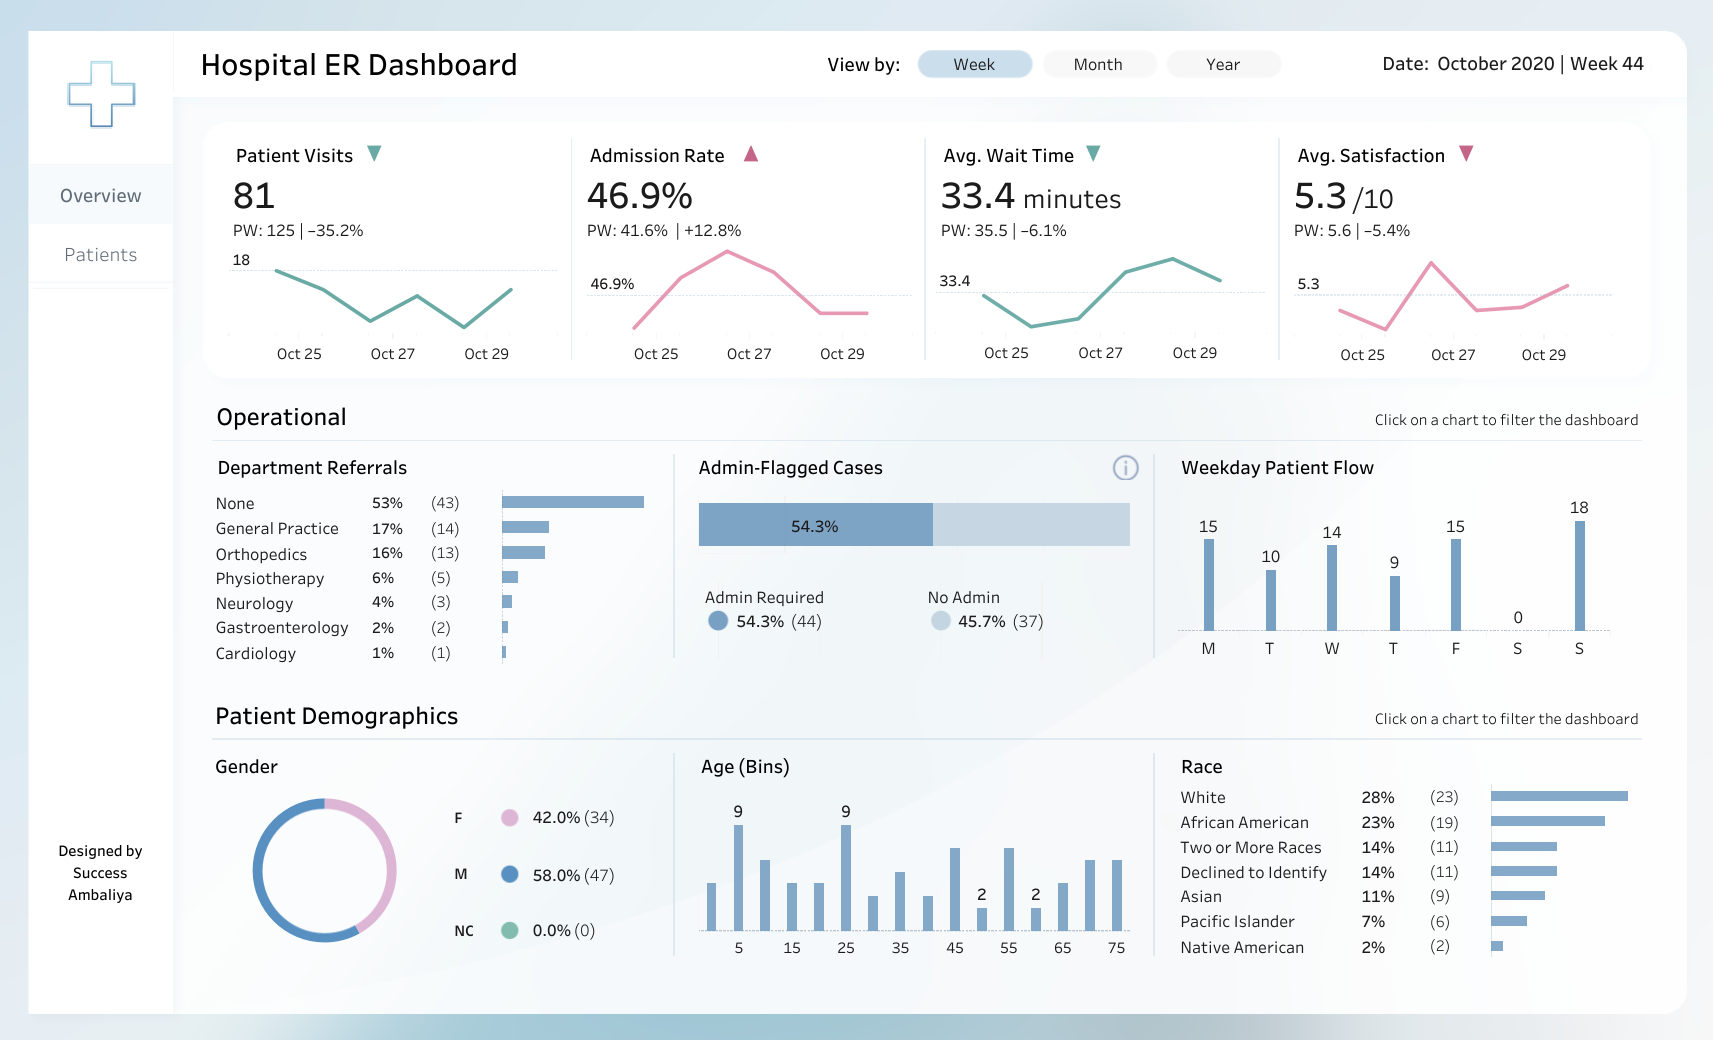

Layout of this report page (visuals, bound fields, positions):
{"tool":"tableau","page":{"name":"Overview","canvas":[1400,850],"ordinal":0},"visuals":[{"type":"image","param":"Image/bg6.png","box":[0,0,1400,850]},{"type":"blank","box":[141,27,1,47]},{"type":"worksheet","title":"Weekly Button","mark":"Shape","rows":["Calculation_1783706957258792969"],"cols":["Calculation_1783706957258780679"],"box":[746,30,101.7,43]},{"type":"worksheet","title":"Monthly Button","mark":"Shape","rows":["Calculation_1783706957258792969"],"cols":["Calculation_1783706957258780679"],"box":[847.7,30,101.7,43]},{"type":"worksheet","title":"Yearly Button","mark":"Shape","rows":["Calculation_1783706957258792969"],"cols":["Calculation_1783706957258780679"],"box":[949.3,30,101.7,43]},{"type":"text","box":[673,32,72,39]},{"type":"worksheet","title":"Date Text","mark":"Automatic","box":[1069,32,278,40]},{"type":"dashboard-object","box":[1307,32,40,40]},{"type":"text","box":[161,36,369,30]},{"type":"text","box":[1121,37,160,30]},{"type":"blank","box":[1281,37,50,30]},{"type":"dashboard-object","box":[1331,37,30,30]},{"type":"image","param":"Image/noun-medical-6896715.png","box":[49,47,68,61]},{"type":"blank","box":[1121,67,240,9]},{"type":"text","box":[1121,76,93,35]},{"type":"parameter","param":"[Parameters].[c_Month Year Date Parameter]","box":[1214,76,147,35]},{"type":"blank","box":[462,109,9,189]},{"type":"blank","box":[751,109,9,189]},{"type":"blank","box":[1040,109,9,189]},{"type":"text","box":[190,113,103,25]},{"type":"worksheet","title":"Patient Visits Arrow","mark":"Text","box":[293,113,25,25]},{"type":"blank","box":[318,113,140,25]},{"type":"text","box":[479,113,118,25]},{"type":"worksheet","title":"Admission Rate Arrow","mark":"Text","box":[597,113,34,25]},{"type":"blank","box":[631,113,116,25]},{"type":"text","box":[768,113,112,25]},{"type":"worksheet","title":"Avg. Wait Time Arrow","mark":"Text","box":[880,113,25,25]},{"type":"blank","box":[905,113,131,25]},{"type":"text","box":[1057,113,128,25]},{"type":"worksheet","title":"Avg. Satisfaction Arrow","mark":"Text","box":[1185,113,25,25]},{"type":"blank","box":[1210,113,113,25]},{"type":"blank","box":[24,134,117,1]},{"type":"dashboard-object","box":[24,135,117,48]},{"type":"worksheet","title":"Patient Visits","mark":"Automatic","box":[186,138,272,62]},{"type":"worksheet","title":"Admission Rate","mark":"Automatic","box":[475,138,272,62]},{"type":"worksheet","title":"Avg, Paitent Wait time","mark":"Automatic","box":[764,138,272,69]},{"type":"worksheet","title":"Avg, Paitent Satisfaction","mark":"Automatic","box":[1053,138,270,72]},{"type":"dashboard-object","box":[24,183,117,47]},{"type":"worksheet","title":"Yearly: Patient Visits","mark":"Automatic","rows":["Calculation_1660702392025608195"],"cols":["date"],"box":[186,200,270,94]},{"type":"worksheet","title":"Monthly: Patient Visits","mark":"Automatic","rows":["Calculation_1660702392025608195"],"cols":["date"],"box":[186,200,1,94]},{"type":"worksheet","title":"Weekly: Patient Visits","mark":"Automatic","rows":["Calculation_1660702392025608195"],"cols":["date"],"box":[187,200,271,94]},{"type":"worksheet","title":"Yearly: Admission Rate","mark":"Automatic","rows":["c_Admission Rate (copy)_1660702392038133775"],"cols":["date"],"box":[475,200,1,94]},{"type":"worksheet","title":"Monthly: Admission Rate","mark":"Automatic","rows":["c_Admission Rate (copy)_1660702392038133775"],"cols":["date"],"box":[476,200,1,94]},{"type":"worksheet","title":"Weekly: Admission Rate","mark":"Automatic","rows":["c_Admission Rate (copy)_1660702392038133775"],"cols":["date"],"box":[477,200,270,94]},{"type":"worksheet","title":"Weekly: Wait time","mark":"Automatic","rows":["c_Patient Visits (Current) (copy)_1660702392044523539"],"cols":["date"],"box":[764,207,270,87]},{"type":"worksheet","title":"Monthly: Wait time","mark":"Automatic","rows":["c_Patient Visits (Current) (copy)_1660702392044523539"],"cols":["date"],"box":[1034,207,1,87]},{"type":"worksheet","title":"Yearly: Wait time","mark":"Automatic","rows":["c_Patient Visits (Current) (copy)_1660702392044523539"],"cols":["date"],"box":[1035,207,1,87]},{"type":"worksheet","title":"Weekly: Sat Score","mark":"Automatic","rows":["c_Avg. Wait Time (Current) (copy)_1660702392055119894"],"cols":["date"],"box":[1053,210,268,85]},{"type":"worksheet","title":"Monthly: Sat Score","mark":"Automatic","rows":["c_Avg. Wait Time (Current) (copy)_1660702392055119894"],"cols":["date"],"box":[1321,210,1,85]},{"type":"worksheet","title":"Yearly: Sat Score","mark":"Automatic","rows":["c_Avg. Wait Time (Current) (copy)_1660702392055119894"],"cols":["date"],"box":[1322,210,1,85]},{"type":"blank","box":[23,230,119,1]},{"type":"blank","box":[23,231,119,9]},{"type":"text","box":[169,322,133,33]},{"type":"text","box":[302,322,1043,33]},{"type":"blank","box":[169,355,1176,9]},{"type":"text","box":[170,366,365,30]},{"type":"blank","box":[540,366,21,176]},{"type":"text","box":[566,366,333,30]},{"type":"worksheet","title":"Admin Flag - Info","mark":"Shape","cols":["Calculation_2006916616635994120"],"box":[899,366,38,30]},{"type":"blank","box":[937,366,16,176]},{"type":"text","box":[958,366,360.9,30]},{"type":"blank","box":[1323.9,366,21,176]},{"type":"worksheet","title":"Department Referrals","mark":"Automatic","rows":["department_referral","c_Patient Visits (Current) (copy)_753508544909041688"],"cols":["Calculation_1660702392025608195"],"box":[170,396,365,146]},{"type":"worksheet","title":"Admin Flag Cases","mark":"Automatic","box":[566,396,371,65]},{"type":"worksheet","title":"Weekday Flow","mark":"Bar","rows":["Calculation_1660702392025608195"],"cols":["Date (copy)_753508544894951426","date"],"box":[958,396,360.9,146]},{"type":"worksheet","title":"Admin Flag Key","mark":"Circle","cols":["patient_admin_flag","Calculation_110338220615553029","Calculation_110338220615553029"],"box":[566,461,371,81]},{"type":"text","box":[169,566,223,33]},{"type":"text","box":[392,566,953,33]},{"type":"blank","box":[169,599,1176,9]},{"type":"text","box":[169,610,366,30]},{"type":"blank","box":[540,610,21,176]},{"type":"text","box":[566,610,360.9,30]},{"type":"blank","box":[931.9,610,21,176]},{"type":"text","box":[958,610,382,30]},{"type":"worksheet","title":"Patient Gender","mark":"Pie","cols":["Calculation_2184527323738333185","Calculation_2184527323738382339"],"box":[169,640,192,146]},{"type":"worksheet","title":"Patient Gender (2)","mark":"Shape","rows":["patient_gender"],"cols":["Calculation_2184527323739688966"],"box":[361,640,174,146]},{"type":"worksheet","title":"Patient Age","mark":"Automatic","rows":["Calculation_1660702392025608195"],"cols":["Patient Age (bin)"],"box":[566,640,360.9,146]},{"type":"worksheet","title":"Patient Race","mark":"Bar","rows":["patient_race","c_Patient Visits (Current) (copy)_753508544909041688"],"cols":["Calculation_1660702392025608195"],"box":[958,640,382,146]},{"type":"text","box":[27,681,110,98]}]}

Visuals, with their boxes in screenshot pixels (x1, y1, x2, y2), scaled from the page's 1400x850 canvas onto the 1713x1040 screenshot:
image: (x1=0, y1=0, x2=1712, y2=1039)
blank: (x1=173, y1=33, x2=174, y2=91)
"Weekly Button" worksheet (Shape marks): (x1=913, y1=37, x2=1037, y2=89)
"Monthly Button" worksheet (Shape marks): (x1=1037, y1=37, x2=1162, y2=89)
"Yearly Button" worksheet (Shape marks): (x1=1162, y1=37, x2=1286, y2=89)
text: (x1=823, y1=39, x2=912, y2=87)
"Date Text" worksheet: (x1=1308, y1=39, x2=1648, y2=88)
dashboard-object: (x1=1599, y1=39, x2=1648, y2=88)
text: (x1=197, y1=44, x2=648, y2=81)
text: (x1=1372, y1=45, x2=1567, y2=82)
blank: (x1=1567, y1=45, x2=1629, y2=82)
dashboard-object: (x1=1629, y1=45, x2=1665, y2=82)
image: (x1=60, y1=58, x2=143, y2=132)
blank: (x1=1372, y1=82, x2=1665, y2=93)
text: (x1=1372, y1=93, x2=1485, y2=136)
parameter: (x1=1485, y1=93, x2=1665, y2=136)
blank: (x1=565, y1=133, x2=576, y2=365)
blank: (x1=919, y1=133, x2=930, y2=365)
blank: (x1=1273, y1=133, x2=1284, y2=365)
text: (x1=232, y1=138, x2=359, y2=169)
"Patient Visits Arrow" worksheet (Text marks): (x1=359, y1=138, x2=389, y2=169)
blank: (x1=389, y1=138, x2=560, y2=169)
text: (x1=586, y1=138, x2=730, y2=169)
"Admission Rate Arrow" worksheet (Text marks): (x1=730, y1=138, x2=772, y2=169)
blank: (x1=772, y1=138, x2=914, y2=169)
text: (x1=940, y1=138, x2=1077, y2=169)
"Avg. Wait Time Arrow" worksheet (Text marks): (x1=1077, y1=138, x2=1107, y2=169)
blank: (x1=1107, y1=138, x2=1268, y2=169)
text: (x1=1293, y1=138, x2=1450, y2=169)
"Avg. Satisfaction Arrow" worksheet (Text marks): (x1=1450, y1=138, x2=1481, y2=169)
blank: (x1=1481, y1=138, x2=1619, y2=169)
blank: (x1=29, y1=164, x2=173, y2=165)
dashboard-object: (x1=29, y1=165, x2=173, y2=224)
"Patient Visits" worksheet: (x1=228, y1=169, x2=560, y2=245)
"Admission Rate" worksheet: (x1=581, y1=169, x2=914, y2=245)
"Avg, Paitent Wait time" worksheet: (x1=935, y1=169, x2=1268, y2=253)
"Avg, Paitent Satisfaction" worksheet: (x1=1288, y1=169, x2=1619, y2=257)
dashboard-object: (x1=29, y1=224, x2=173, y2=281)
"Yearly: Patient Visits" worksheet: (x1=228, y1=245, x2=558, y2=360)
"Monthly: Patient Visits" worksheet: (x1=228, y1=245, x2=229, y2=360)
"Weekly: Patient Visits" worksheet: (x1=229, y1=245, x2=560, y2=360)
"Yearly: Admission Rate" worksheet: (x1=581, y1=245, x2=582, y2=360)
"Monthly: Admission Rate" worksheet: (x1=582, y1=245, x2=584, y2=360)
"Weekly: Admission Rate" worksheet: (x1=584, y1=245, x2=914, y2=360)
"Weekly: Wait time" worksheet: (x1=935, y1=253, x2=1265, y2=360)
"Monthly: Wait time" worksheet: (x1=1265, y1=253, x2=1266, y2=360)
"Yearly: Wait time" worksheet: (x1=1266, y1=253, x2=1268, y2=360)
"Weekly: Sat Score" worksheet: (x1=1288, y1=257, x2=1616, y2=361)
"Monthly: Sat Score" worksheet: (x1=1616, y1=257, x2=1618, y2=361)
"Yearly: Sat Score" worksheet: (x1=1618, y1=257, x2=1619, y2=361)
blank: (x1=28, y1=281, x2=174, y2=283)
blank: (x1=28, y1=283, x2=174, y2=294)
text: (x1=207, y1=394, x2=370, y2=434)
text: (x1=370, y1=394, x2=1646, y2=434)
blank: (x1=207, y1=434, x2=1646, y2=445)
text: (x1=208, y1=448, x2=655, y2=485)
blank: (x1=661, y1=448, x2=686, y2=663)
text: (x1=693, y1=448, x2=1100, y2=485)
"Admin Flag - Info" worksheet (Shape marks): (x1=1100, y1=448, x2=1146, y2=485)
blank: (x1=1146, y1=448, x2=1166, y2=663)
text: (x1=1172, y1=448, x2=1614, y2=485)
blank: (x1=1620, y1=448, x2=1646, y2=663)
"Department Referrals" worksheet: (x1=208, y1=485, x2=655, y2=663)
"Admin Flag Cases" worksheet: (x1=693, y1=485, x2=1146, y2=564)
"Weekday Flow" worksheet (Bar marks): (x1=1172, y1=485, x2=1614, y2=663)
"Admin Flag Key" worksheet (Circle marks): (x1=693, y1=564, x2=1146, y2=663)
text: (x1=207, y1=693, x2=480, y2=733)
text: (x1=480, y1=693, x2=1646, y2=733)
blank: (x1=207, y1=733, x2=1646, y2=744)
text: (x1=207, y1=746, x2=655, y2=783)
blank: (x1=661, y1=746, x2=686, y2=962)
text: (x1=693, y1=746, x2=1134, y2=783)
blank: (x1=1140, y1=746, x2=1166, y2=962)
text: (x1=1172, y1=746, x2=1640, y2=783)
"Patient Gender" worksheet (Pie marks): (x1=207, y1=783, x2=442, y2=962)
"Patient Gender (2)" worksheet (Shape marks): (x1=442, y1=783, x2=655, y2=962)
"Patient Age" worksheet: (x1=693, y1=783, x2=1134, y2=962)
"Patient Race" worksheet (Bar marks): (x1=1172, y1=783, x2=1640, y2=962)
text: (x1=33, y1=833, x2=168, y2=953)
